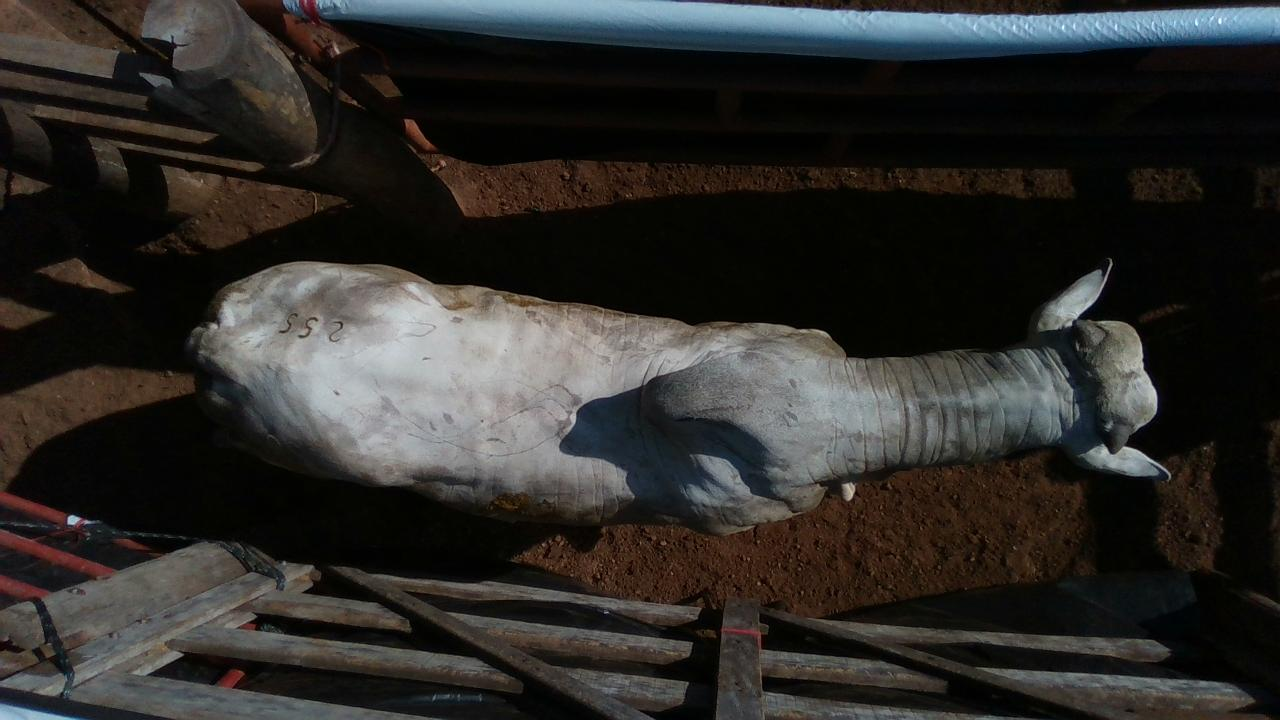cattle: (183, 254, 1173, 536)
